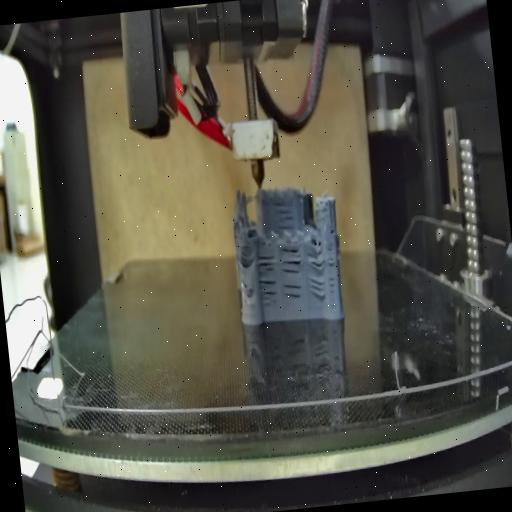cracks: (276, 244, 302, 278), (324, 250, 338, 312), (256, 277, 280, 309), (270, 200, 295, 230), (304, 248, 326, 274), (282, 281, 303, 306), (307, 278, 326, 304), (256, 253, 276, 276), (237, 250, 251, 270), (238, 278, 248, 289), (328, 224, 334, 239)
